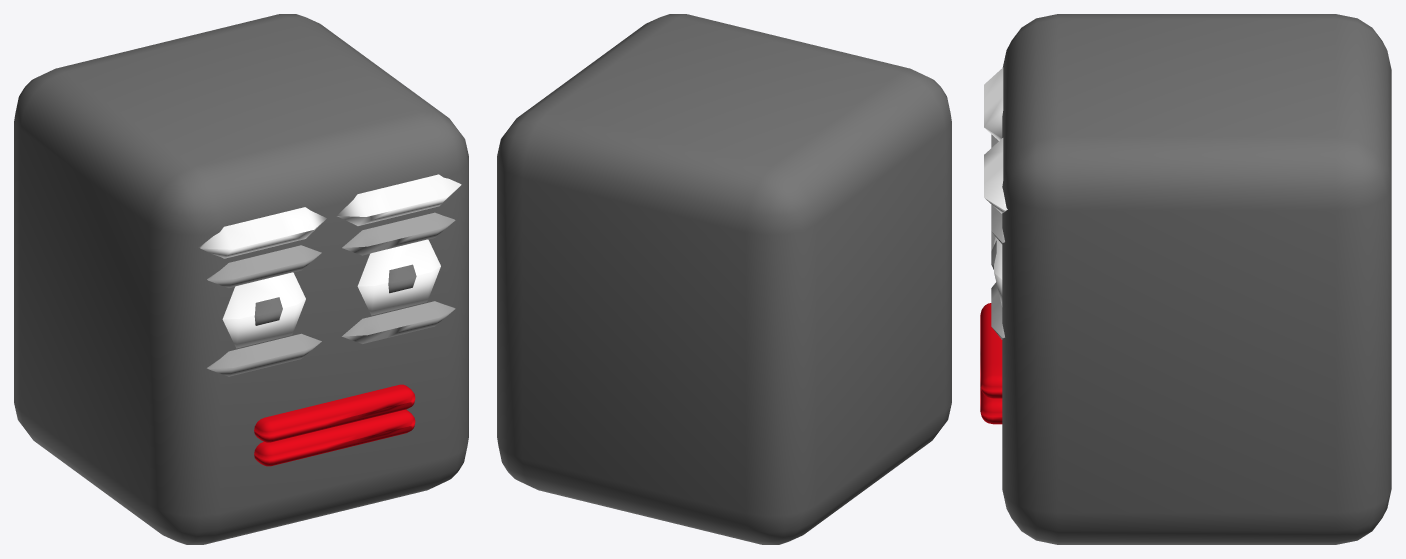
File: robothead2.glb
3 views of the same model, side by side, from view 1: azimuth 30°, elevation 25°; view 2: azimuth 150°, elevation 25°; view 3: azimuth 270°, elevation 25° (orthographic). The views are drawn at different scales.
Parts seen in each view (by area): view 1: Cube; view 2: Cube; view 3: Cube.
Part boxes in pixels (bbox=[...]): Cube: bbox=[14, 14, 468, 544]; Cube: bbox=[497, 14, 951, 544]; Cube: bbox=[980, 14, 1391, 544].
Bounding box in the file's own units: 0.7 × 0.8 × 0.7393.
